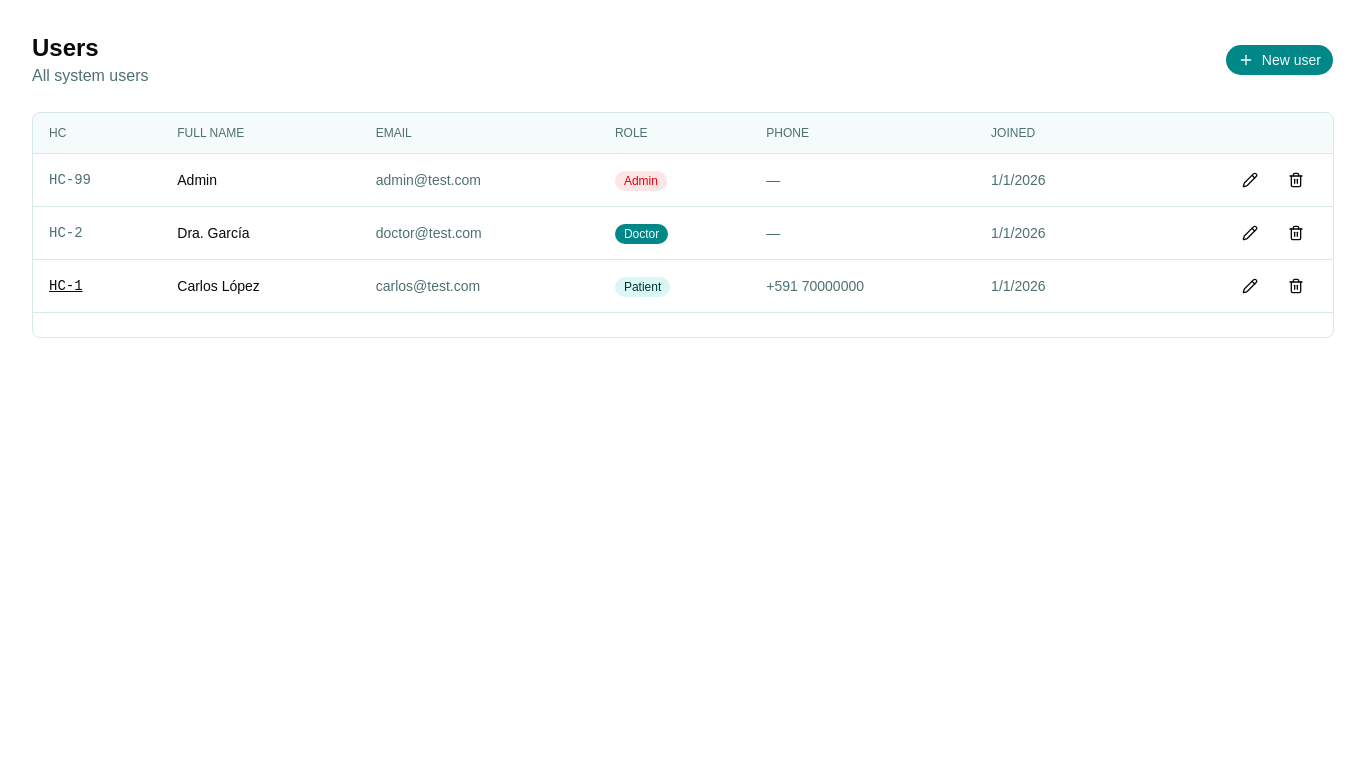
Test: UsersPage › as admin › opens edit dialog with Role selector pre-filled
This screenshot has width=1366, height=768.
Check: the text "Dra. García" is shown, box [161, 206, 360, 260]
Click the button with class "lucide-pencil" at [1250, 233], box [1229, 219, 1271, 247]
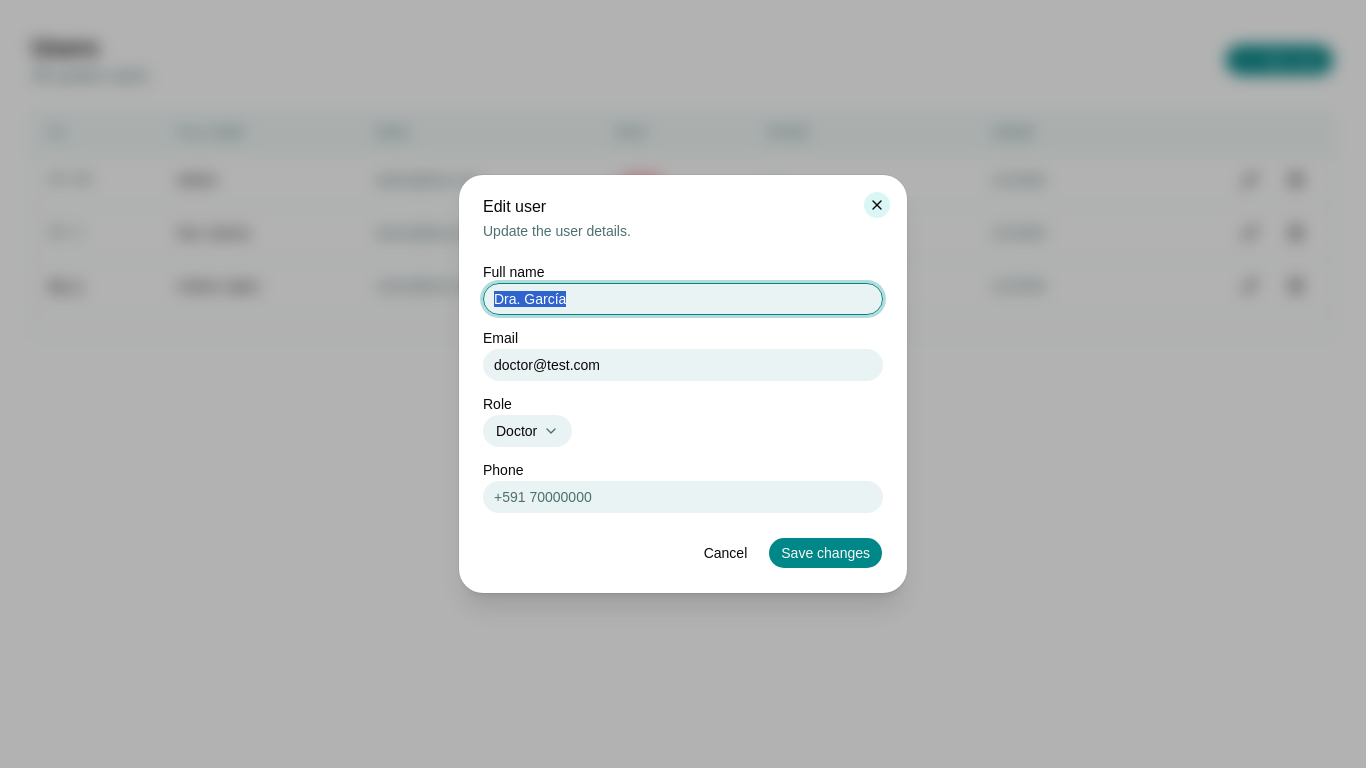
Check: the heading "Edit user" is shown, box [483, 198, 546, 215]
Check: the dropdown is shown, box [483, 415, 572, 447]
